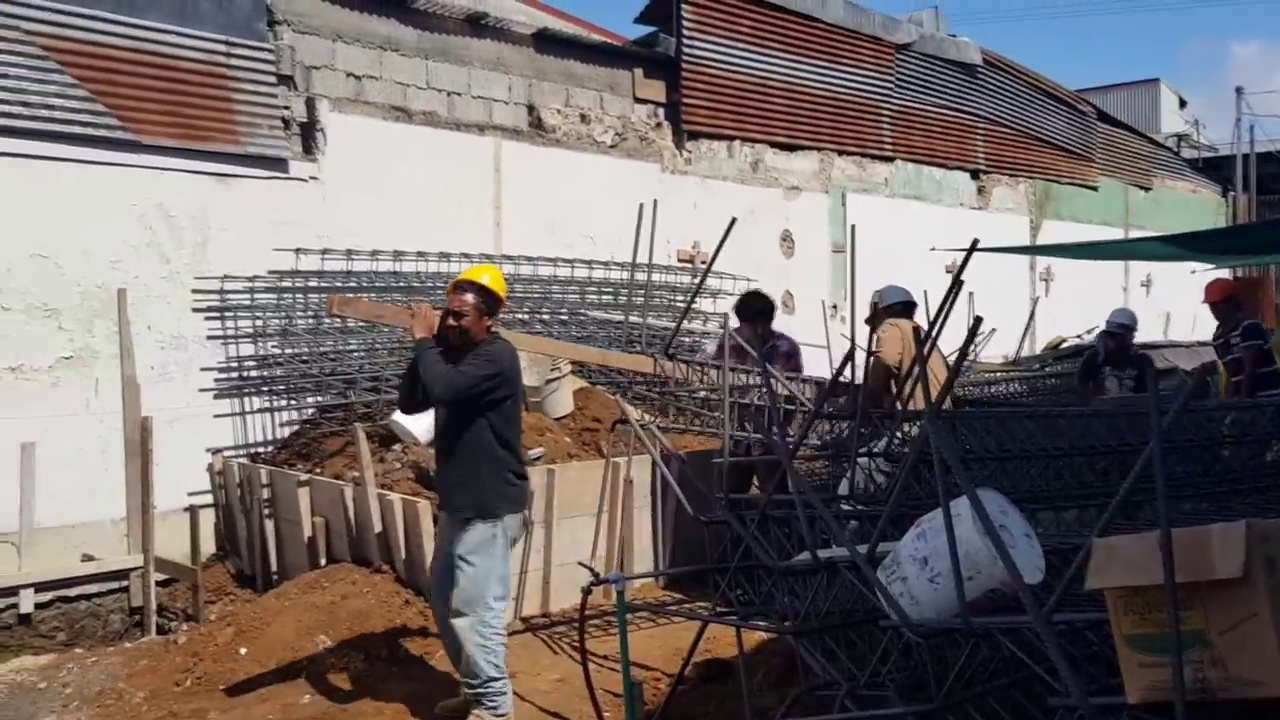helmet: (440, 262, 507, 309), (864, 287, 918, 327), (1103, 308, 1139, 351), (1202, 278, 1239, 305), (1103, 308, 1138, 327)
helmet-off: (730, 288, 779, 352), (763, 262, 813, 309)
helmet-on: (440, 264, 506, 353), (863, 285, 919, 335), (1201, 279, 1240, 326)
person: (396, 260, 530, 710), (709, 288, 804, 508), (1201, 274, 1278, 460), (862, 285, 949, 411), (1082, 308, 1156, 400)
